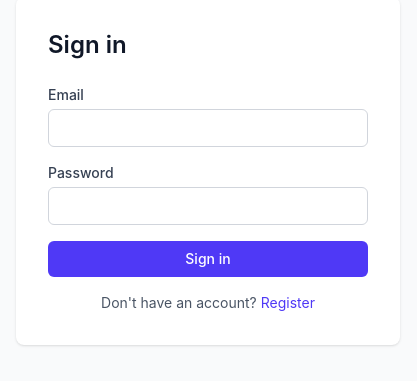
Scenario: LoginPage › shows error message on 401
The width and height of the screenshot is (417, 381).
Type "test@example.com" into the field labelled "Email" at (208, 128), box 48,109 -> 368,147
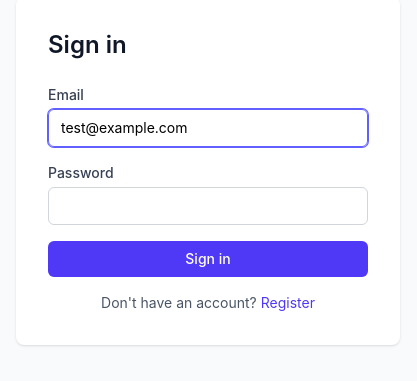
Type "wrong" into the password field labelled "Password" at (208, 206), box 48,187 -> 368,225
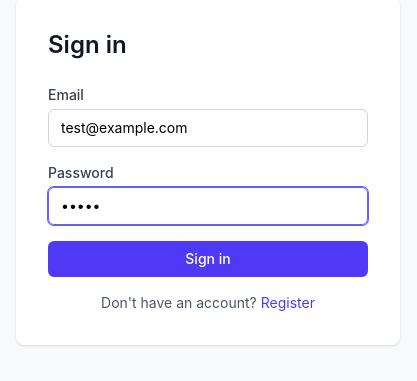
Click the button "Sign in" at (208, 259), box 48,241 -> 368,277
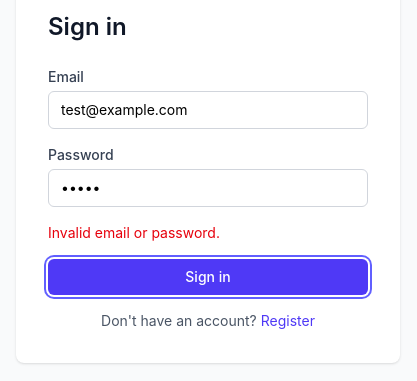
Expected: the text "Invalid email or password." is shown, 48,224 -> 220,241
